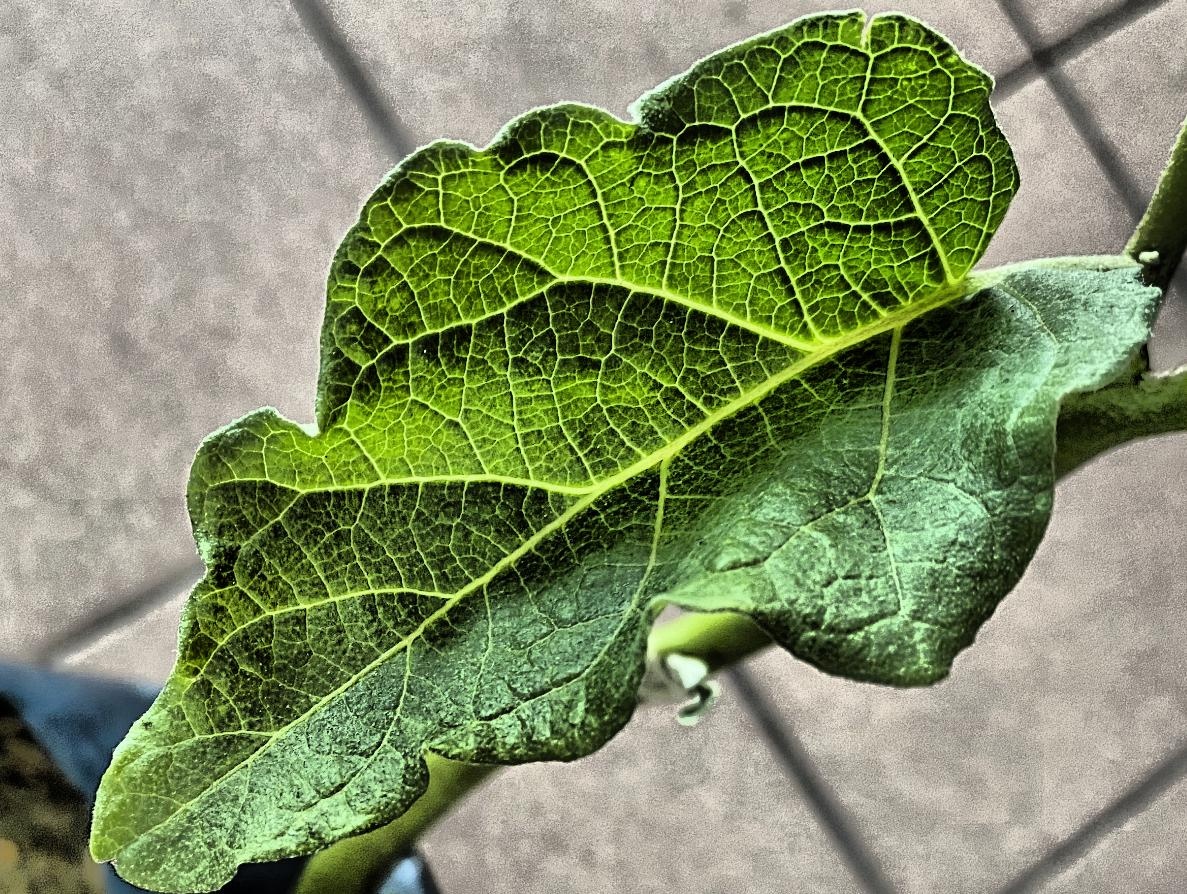HEALTHY: (1, 1, 1187, 894)
